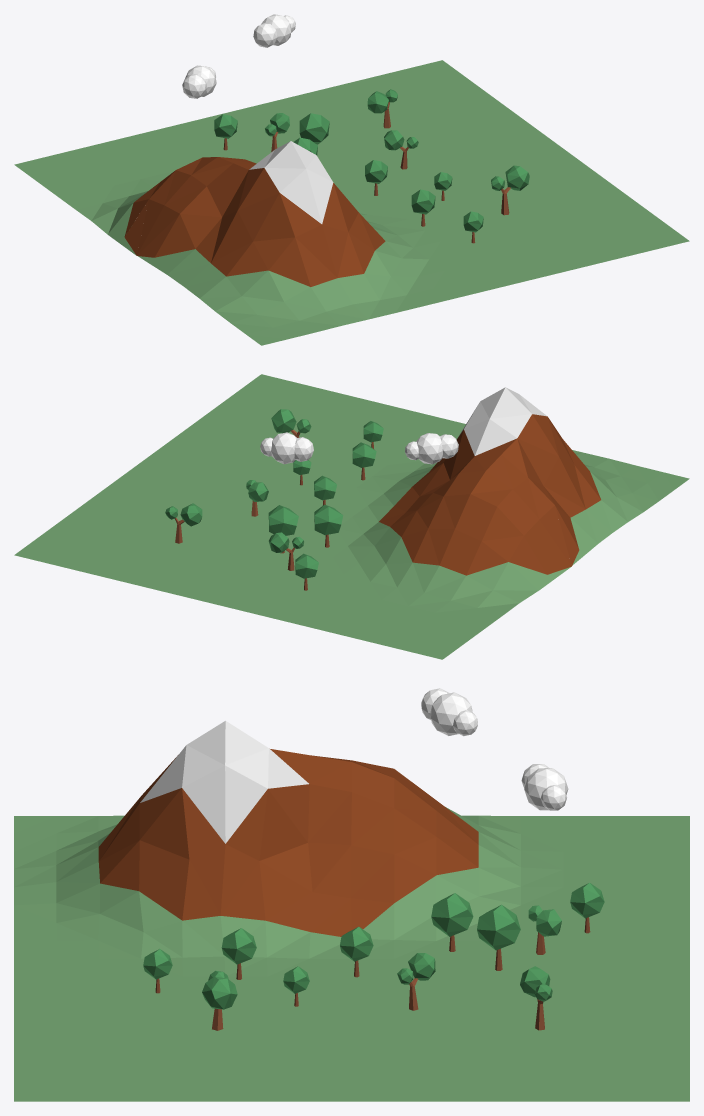
The model's file is mountain.glb.
3 views of the same model, one above another, from view 1: azimuth 30°, elevation 25°; view 2: azimuth 150°, elevation 25°; view 3: azimuth 270°, elevation 25° (orthographic). The views are drawn at different scales.
Visible parts, largest first — view 1: green-material, second-material, snow-material, clouds-material.001, clouds-material, leaves-material.006, leaves-material.001, leaves-material.002; view 2: green-material, second-material, snow-material, clouds-material, clouds-material.001, leaves-material.006, leaves-material.005, leaves-material.001, leaves-material.002, leaves-material.010, leaves-material.003, leaves-material.009 (+1 smaller); view 3: green-material, second-material, snow-material, clouds-material, clouds-material.001, leaves-material.006, leaves-material.005, leaves-material.001, leaves-material.010, leaves-material.003, leaves-material.004, leaves-material.002 (+3 smaller).
Part boxes in pixels (x1=…): green-material: x1=14, y1=60, x2=689, y2=345; second-material: x1=124, y1=157, x2=385, y2=286; snow-material: x1=249, y1=141, x2=333, y2=223; clouds-material.001: x1=253, y1=14, x2=295, y2=47; clouds-material: x1=182, y1=65, x2=216, y2=98; leaves-material.006: x1=299, y1=113, x2=329, y2=144; leaves-material.001: x1=491, y1=165, x2=529, y2=190; leaves-material.002: x1=367, y1=89, x2=397, y2=113; green-material: x1=14, y1=374, x2=689, y2=659; second-material: x1=379, y1=414, x2=600, y2=575; snow-material: x1=457, y1=387, x2=546, y2=455; clouds-material: x1=405, y1=433, x2=458, y2=464; clouds-material.001: x1=260, y1=432, x2=313, y2=464; leaves-material.006: x1=268, y1=505, x2=298, y2=535; leaves-material.005: x1=314, y1=504, x2=343, y2=534; leaves-material.001: x1=271, y1=409, x2=311, y2=433; leaves-material.002: x1=165, y1=503, x2=202, y2=526; leaves-material.010: x1=352, y1=442, x2=376, y2=467; leaves-material.003: x1=295, y1=553, x2=318, y2=578; leaves-material.009: x1=268, y1=532, x2=303, y2=552; green-material: x1=14, y1=807, x2=689, y2=1101; second-material: x1=98, y1=749, x2=478, y2=936; snow-material: x1=140, y1=720, x2=308, y2=843; clouds-material: x1=421, y1=688, x2=477, y2=736; clouds-material.001: x1=521, y1=764, x2=568, y2=810; leaves-material.006: x1=477, y1=904, x2=520, y2=950; leaves-material.005: x1=431, y1=893, x2=473, y2=936; leaves-material.001: x1=202, y1=970, x2=237, y2=1009; leaves-material.010: x1=221, y1=928, x2=256, y2=964; leaves-material.003: x1=570, y1=882, x2=604, y2=918; leaves-material.004: x1=340, y1=926, x2=373, y2=961; leaves-material.002: x1=520, y1=966, x2=552, y2=1001.
Bounding box in the file's own units: 15.38 × 4.81 × 15.26.
